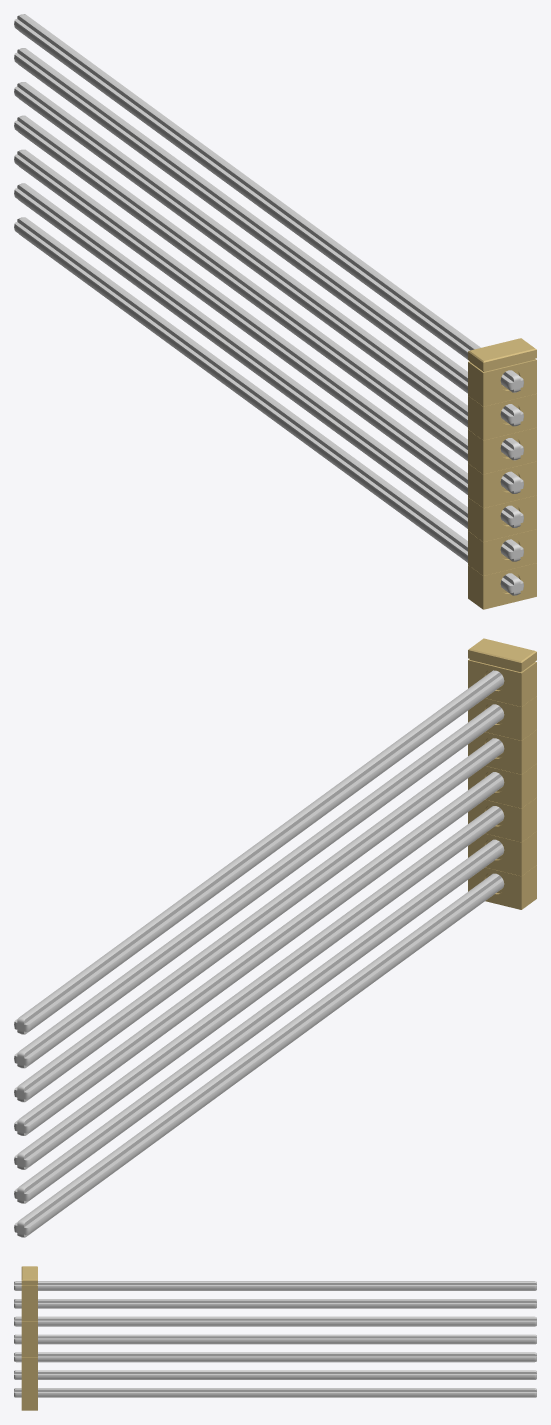
The model's file is gate.fbx.
The picture shows the model from 3 angles, top to bottom: view 1: azimuth 30°, elevation 25°; view 2: azimuth 150°, elevation 25°; view 3: azimuth 270°, elevation 25°; orthographic projection. The views are drawn at different scales.
Parts seen in each view (by area): view 1: Rods, Base; view 2: Rods, Base; view 3: Rods, Base.
Part boxes in pixels (x1=…): Rods: x1=14, y1=14, x2=523, y2=595; Base: x1=468, y1=338, x2=536, y2=609; Rods: x1=14, y1=670, x2=504, y2=1237; Base: x1=468, y1=638, x2=536, y2=909; Rods: x1=14, y1=1281, x2=536, y2=1397; Base: x1=21, y1=1266, x2=37, y2=1410.
Size of the model in its own units: 1592 by 7036 by 25540.
